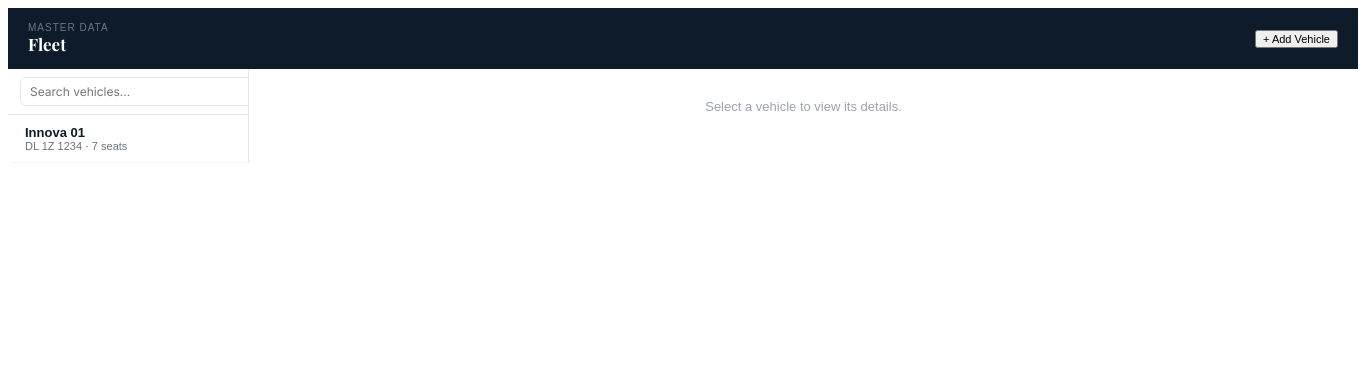
Scenario: FleetMaster › documents: lists, uploads into the vehicle folder, deletes
Later steps or results of the test are not shown.
Click the text "Innova 01". click: (55, 132)
box: left=25, top=125, right=85, bottom=140
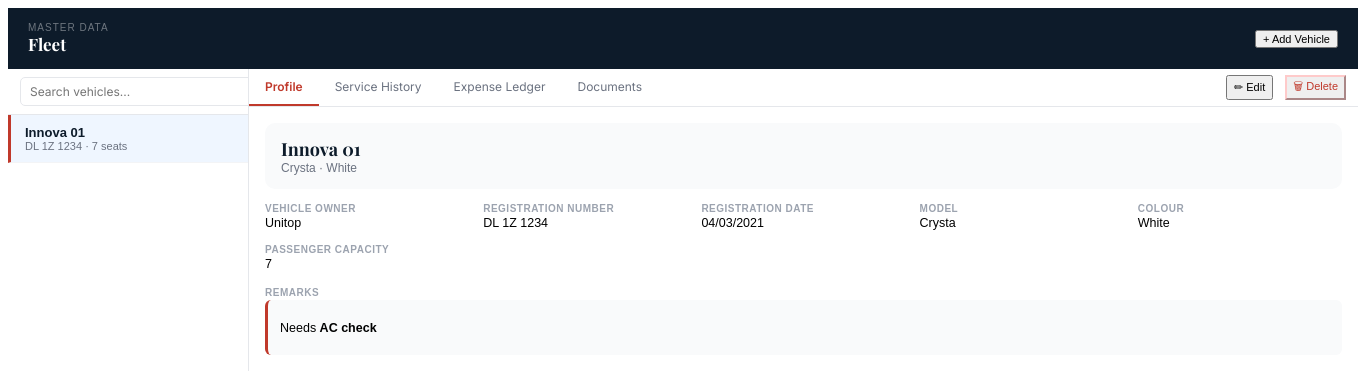
Click the button "Documents". click: (610, 88)
box: left=562, top=69, right=658, bottom=106
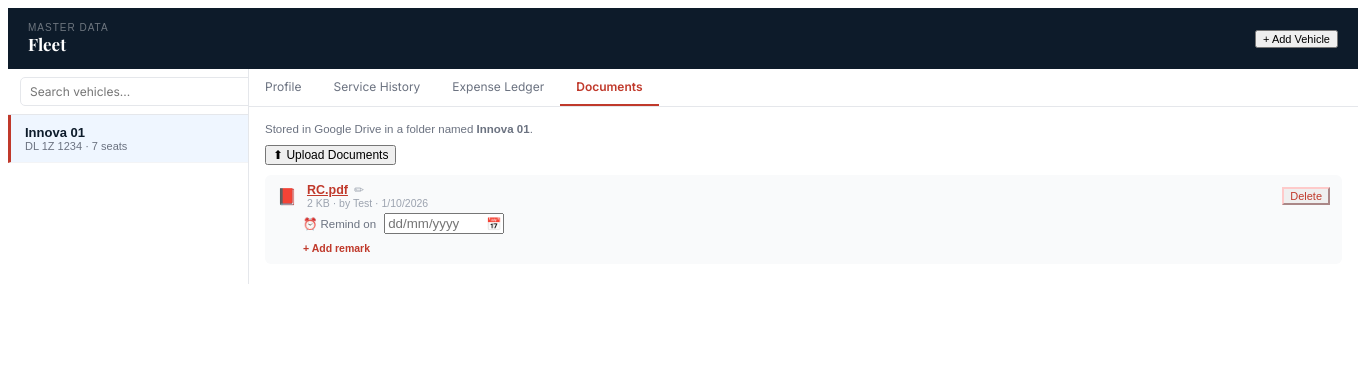
Expected: the link "RC.pdf" is shown, left=307, top=183, right=348, bottom=197
Expected: the text "Innova 01" next to "Stored in Google Drive in a folder named" is shown, left=477, top=123, right=530, bottom=135
